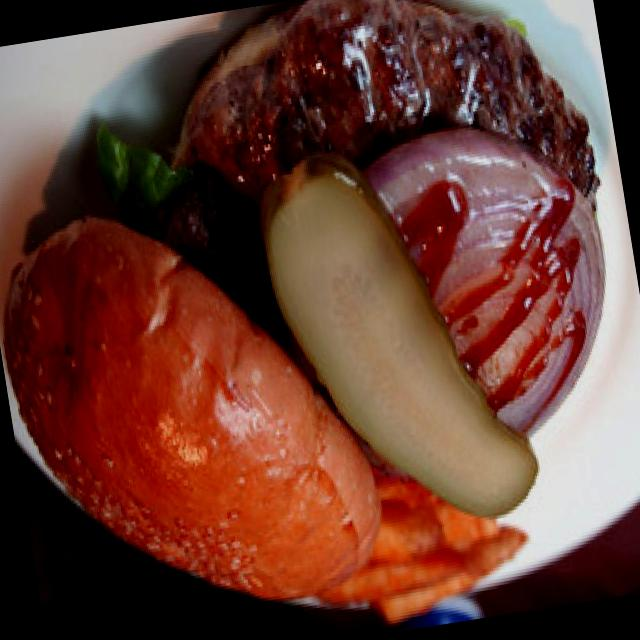Hamburger: (0, 0, 639, 631)
